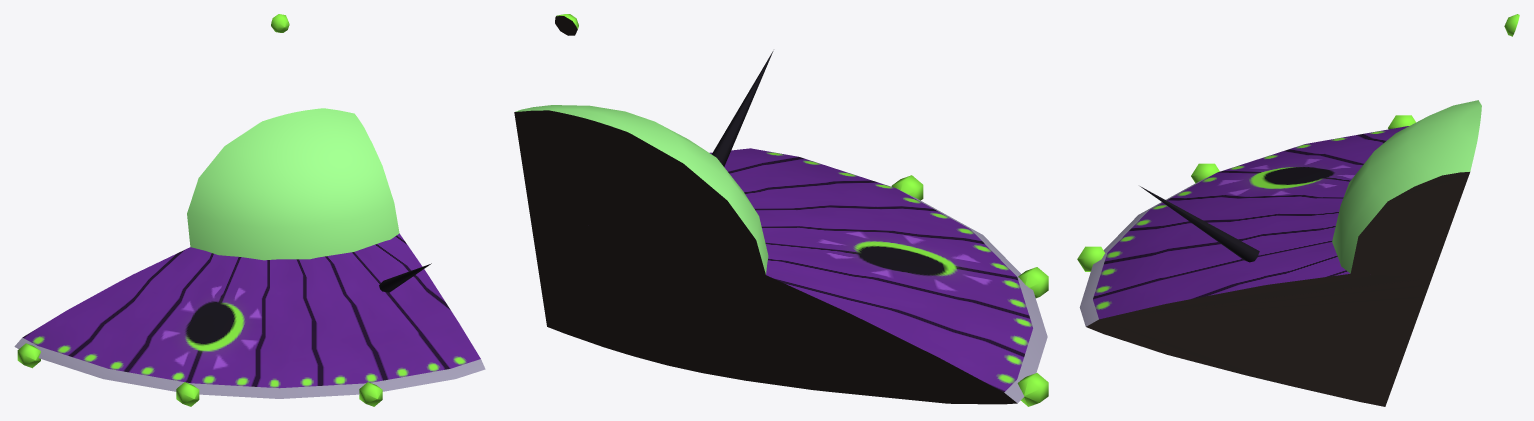
The model's file is scout_saucer_debris3.obj.
3 renders of one model, left to right at view 1: azimuth 30°, elevation 25°; view 2: azimuth 150°, elevation 25°; view 3: azimuth 270°, elevation 25°, orthographic. The views are drawn at different scales.
Parts seen in each view (by area): view 1: disc, dome, rim_light, spike; view 2: disc, dome, rim_light, spike; view 3: disc, dome, spike, rim_light.
Boxes of the visible parts, x1,y1,x2,y2 form: disc: (14,233,485,398); dome: (187,108,399,260); rim_light: (17,343,382,406); spike: (379,263,431,292); disc: (529,148,1047,404); dome: (514,105,768,277); rim_light: (891,175,1048,406); spike: (712,51,773,166); disc: (1079,126,1431,406); dome: (1332,100,1481,281); spike: (1140,186,1259,262); rim_light: (1077,115,1415,271).
Bounding box in the file's own units: 7.29 × 5.42 × 6.07.
Materials: 6 (1 with a texture image).
